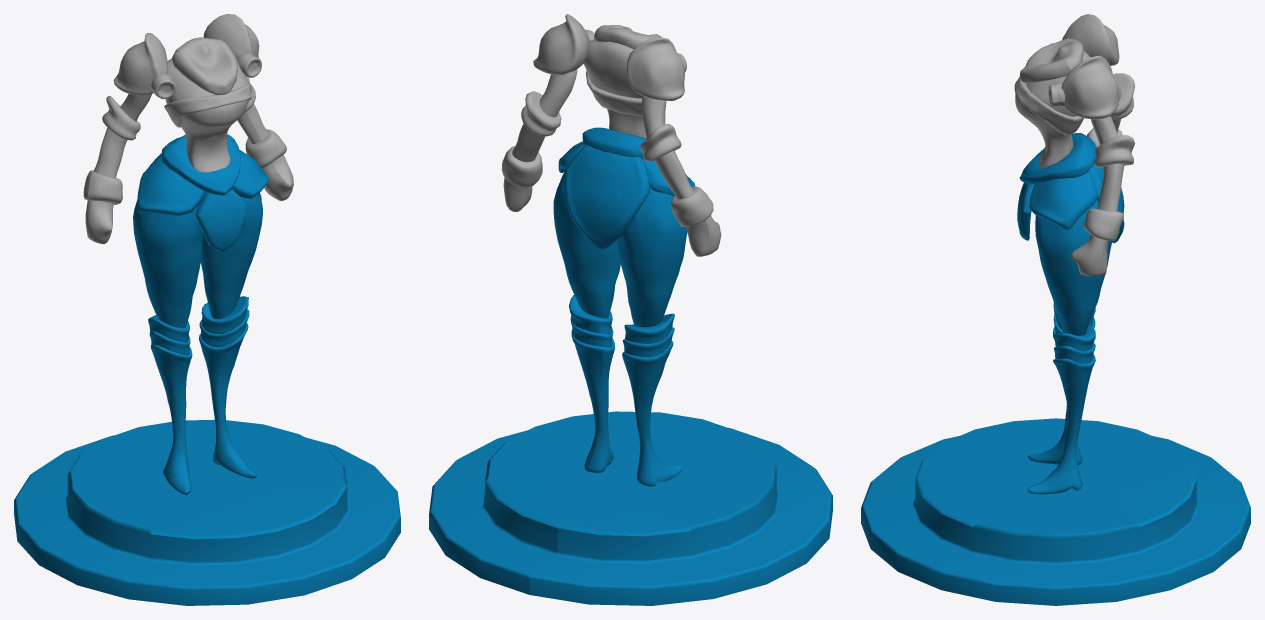
Rendered from SM_Chev_CP.fbx.
The picture shows the model from 3 angles, left to right: view 1: azimuth 30°, elevation 25°; view 2: azimuth 150°, elevation 25°; view 3: azimuth 270°, elevation 25°; orthographic projection. The views are drawn at different scales.
Parts seen in each view (by area): view 1: SM_Chev_CP; view 2: SM_Chev_CP; view 3: SM_Chev_CP.
Boxes of the visible parts, x1=… form: SM_Chev_CP: x1=14, y1=14, x2=400, y2=605; SM_Chev_CP: x1=429, y1=14, x2=832, y2=605; SM_Chev_CP: x1=861, y1=14, x2=1250, y2=605.
Bounding box in the file's own units: 6.25 × 8.63 × 6.25.
